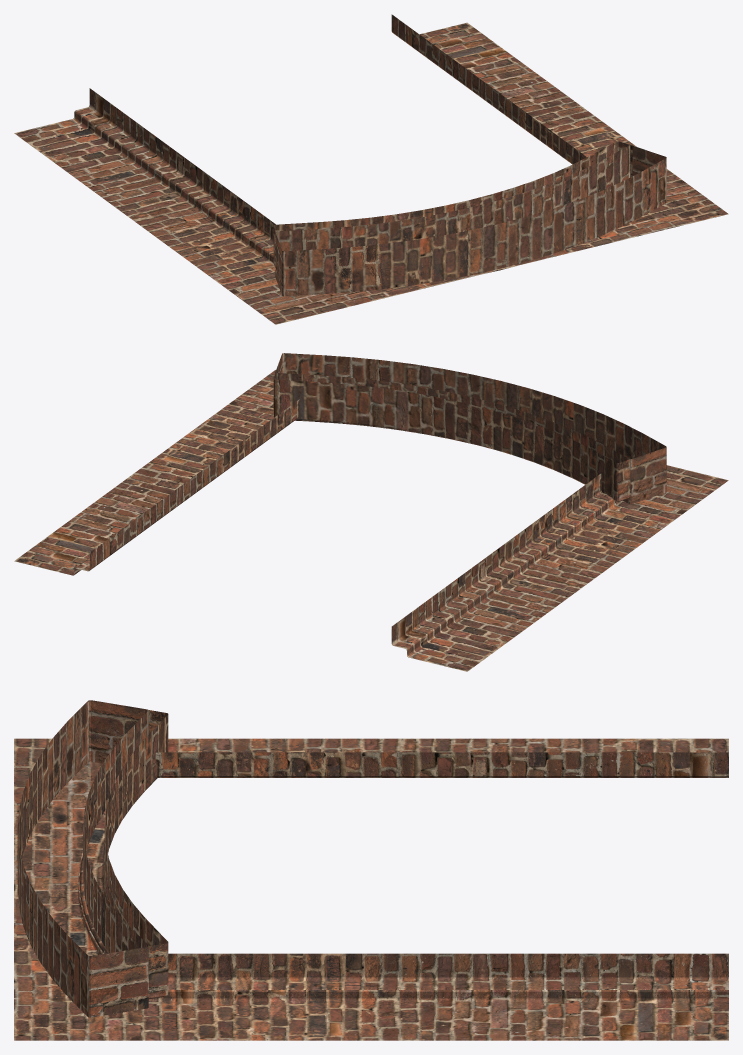
The model's file is wall_window_tall_large_04.gltf.
3 views of the same model, one above another, from view 1: azimuth 30°, elevation 25°; view 2: azimuth 150°, elevation 25°; view 3: azimuth 270°, elevation 25° (orthographic). The views are drawn at different scales.
Parts seen in each view (by area): view 1: wall_window_tall_large_04; view 2: wall_window_tall_large_04; view 3: wall_window_tall_large_04.
Part boxes in pixels (bbox=[...]): wall_window_tall_large_04: bbox=[14, 14, 728, 324]; wall_window_tall_large_04: bbox=[14, 353, 728, 671]; wall_window_tall_large_04: bbox=[14, 700, 728, 1040].
Size of the model in its own units: 3 by 0.3 by 3.
1 material, 1 textured.
